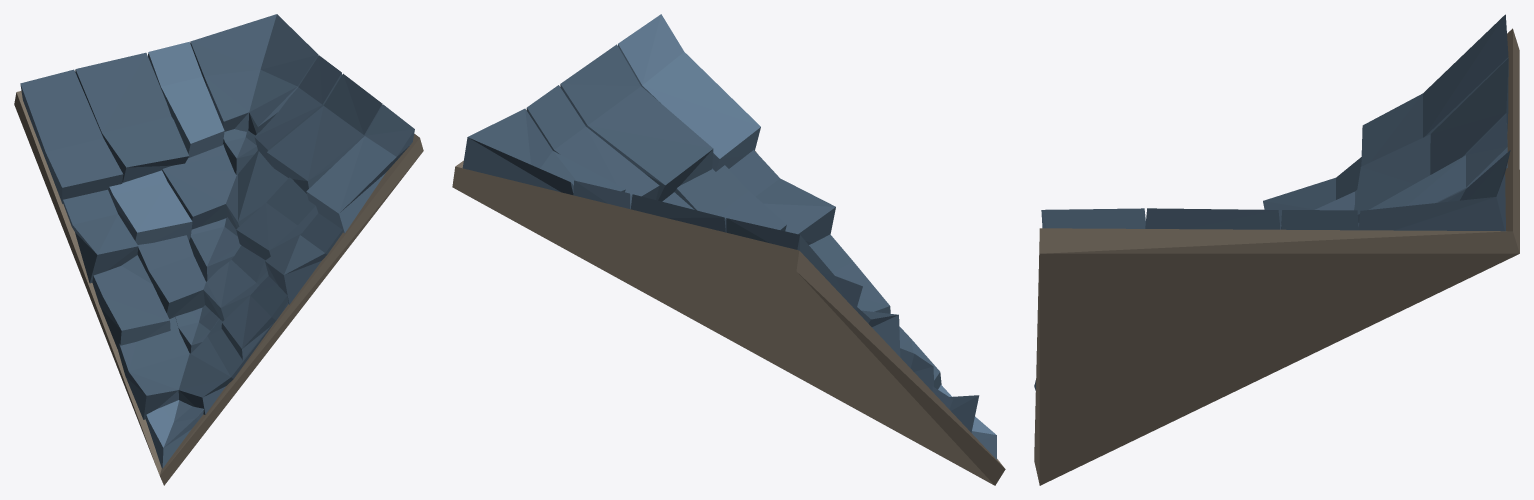
Rendered from _ROOF_inner_corner_1.fbx.
3 renders of one model, left to right at view 1: azimuth 30°, elevation 25°; view 2: azimuth 150°, elevation 25°; view 3: azimuth 270°, elevation 25°, orthographic. The views are drawn at different scales.
Visible parts, largest first — view 1: ROOF_inner_corner_1; view 2: ROOF_inner_corner_1; view 3: ROOF_inner_corner_1.
Boxes of the visible parts, <box> form: ROOF_inner_corner_1: <box>14,14,423,485</box>; ROOF_inner_corner_1: <box>452,14,1005,485</box>; ROOF_inner_corner_1: <box>1034,14,1519,485</box>.
Size of the model in its own units: 102 by 112 by 101.
